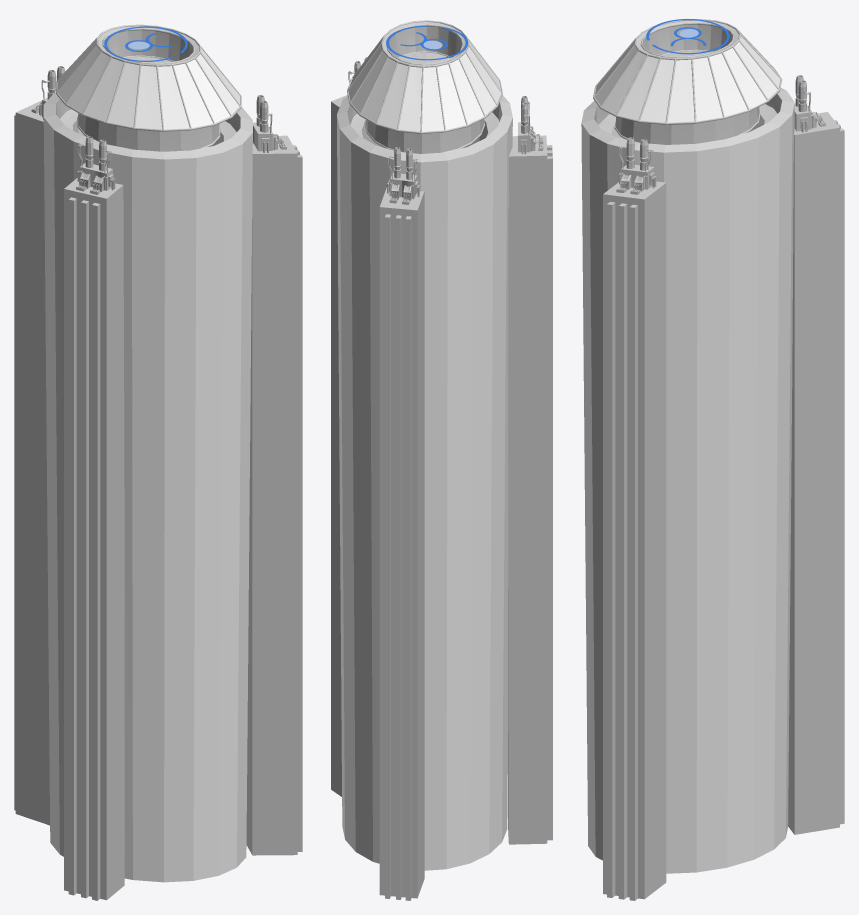
The model's file is second building.glb.
The picture shows the model from 3 angles, left to right: view 1: azimuth 30°, elevation 25°; view 2: azimuth 150°, elevation 25°; view 3: azimuth 270°, elevation 25°; orthographic projection.
Visible parts, largest first — view 1: city buildings.windows.205, user-286; view 2: city buildings.windows.205, user-286; view 3: city buildings.windows.205, user-286.
Boxes of the visible parts, bbox=[...] form: city buildings.windows.205: bbox=[14, 24, 302, 900]; user-286: bbox=[104, 26, 187, 61]; city buildings.windows.205: bbox=[331, 20, 552, 900]; user-286: bbox=[386, 25, 468, 60]; city buildings.windows.205: bbox=[581, 19, 844, 900]; user-286: bbox=[646, 19, 729, 54].
Bounding box in the file's own units: 2.51 × 8.56 × 2.54.
3 materials, 1 textured.
